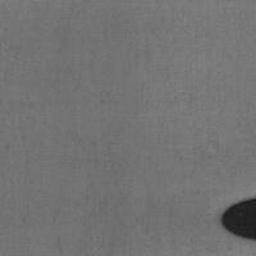Punching: (221, 198, 256, 239)
